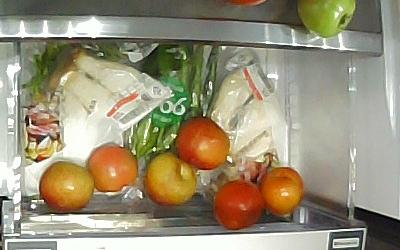prune: (142, 149, 196, 207), (174, 115, 230, 170), (38, 159, 94, 213), (85, 141, 138, 192), (211, 179, 264, 229), (256, 165, 304, 213)
